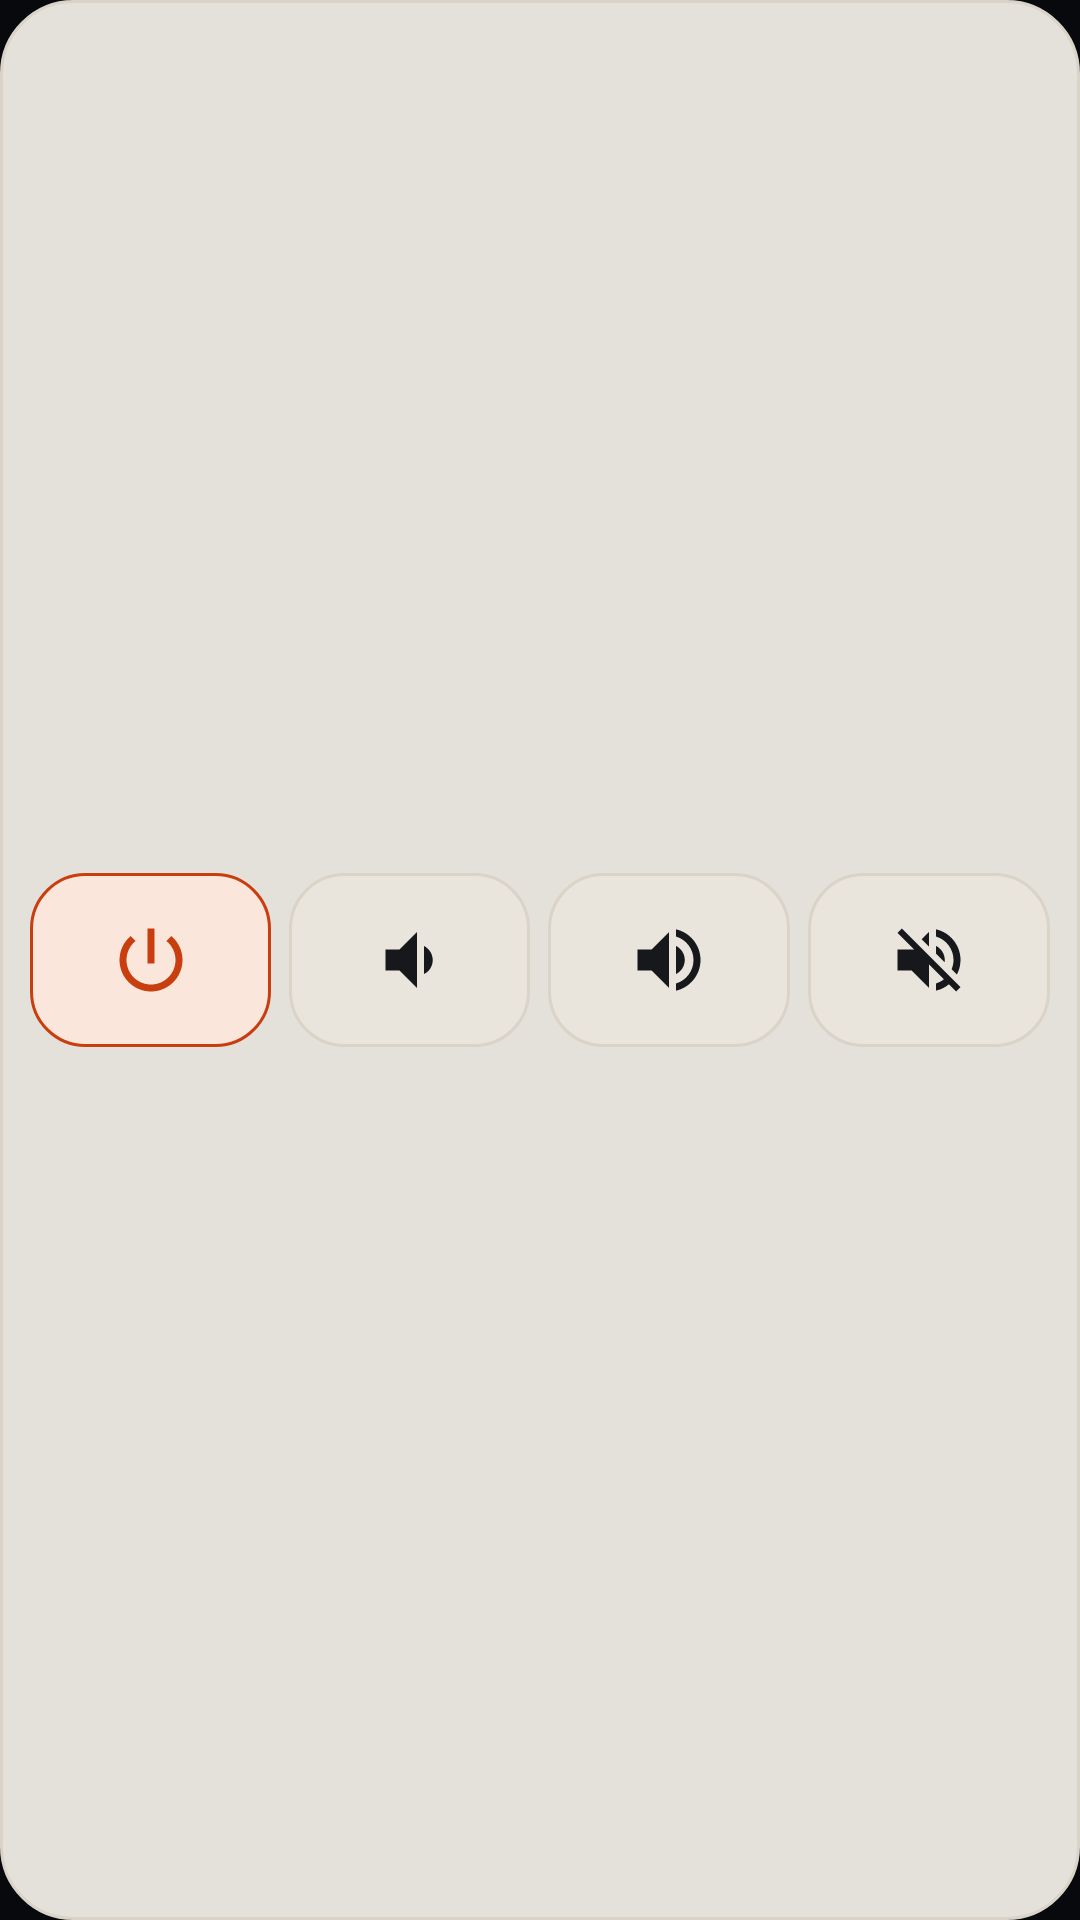

Screen size 1080px×1920px. Icon name, then its box in pixels as (x1, y1, x2, y2):
Bajar volumen: (385, 932, 433, 988)
Encendido: (30, 873, 271, 1047)
Silenciar: (897, 928, 961, 992)
Subir volumen: (637, 929, 701, 991)
